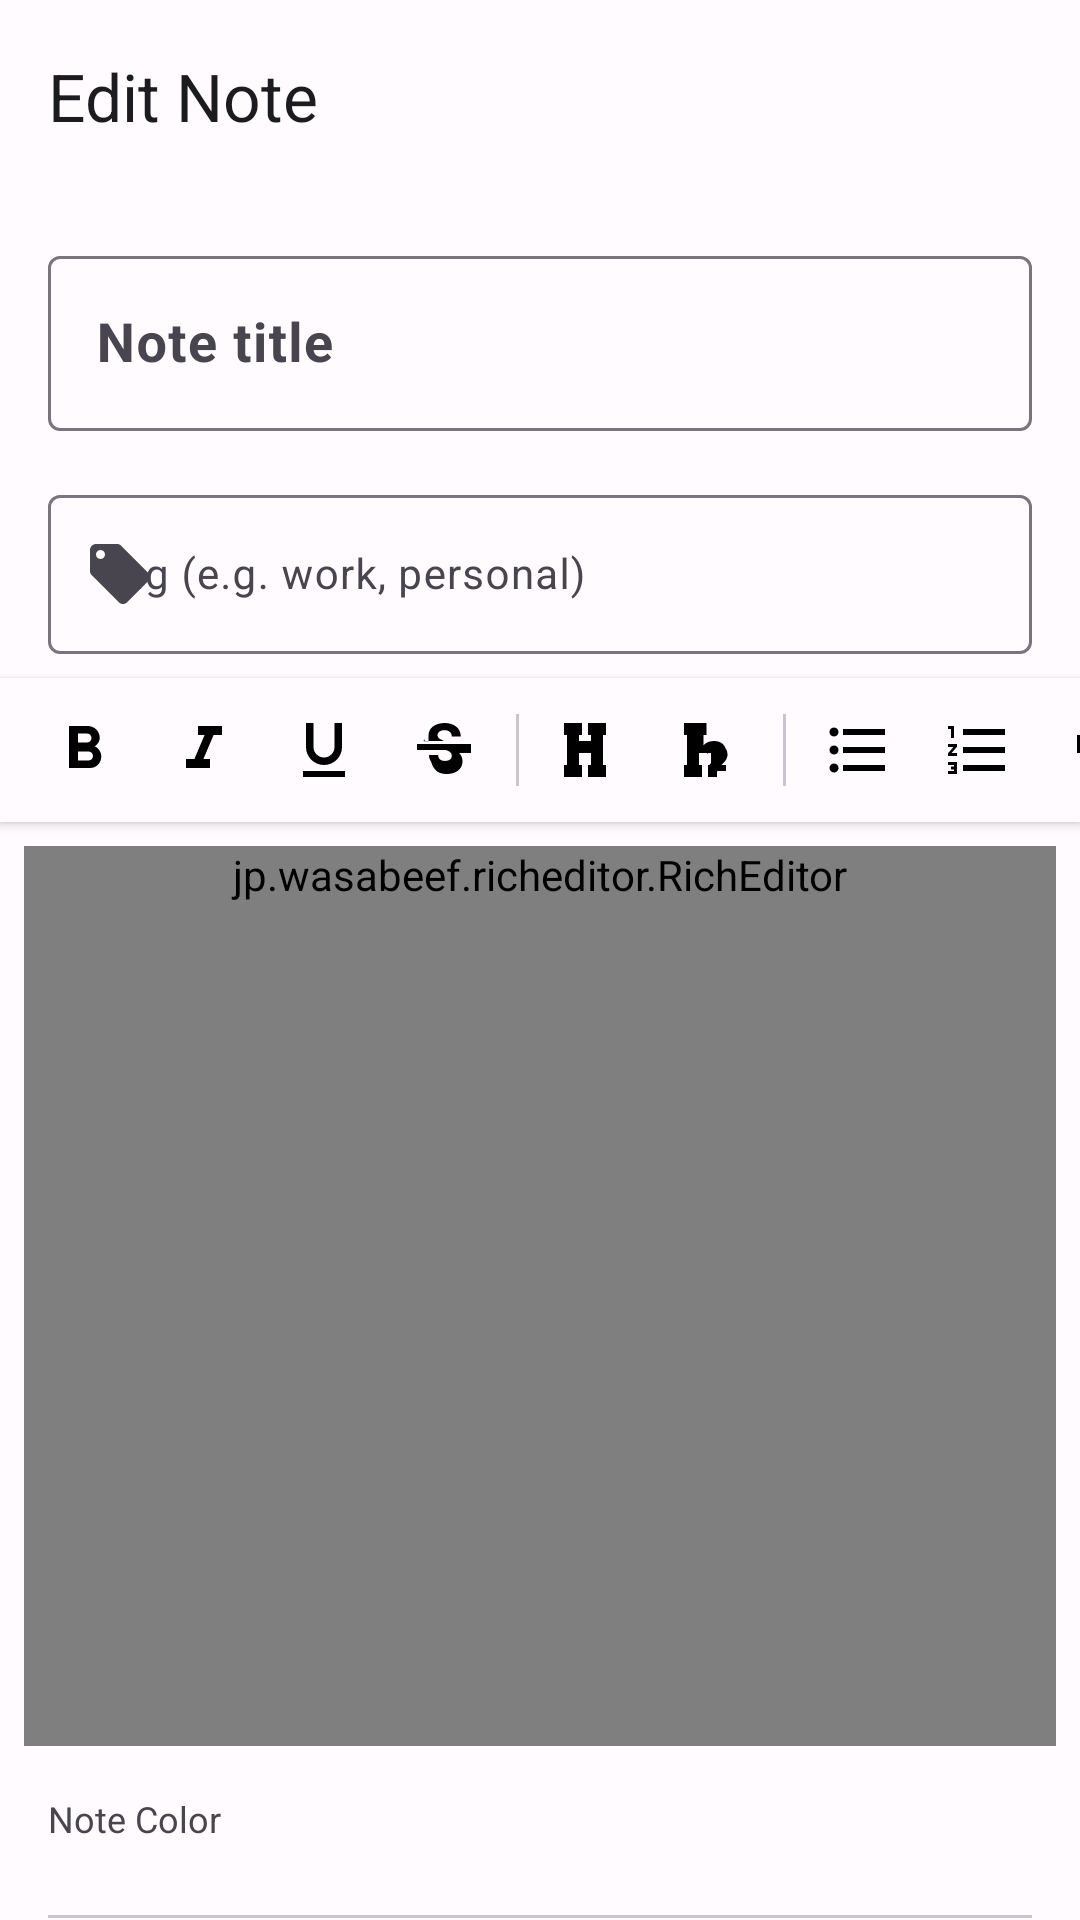

Where icons sit on this 1080px×1920px app screen, as box=[x1, y1, x2, y2]:
Bold: box=[69, 726, 102, 768]
Bullet list: box=[829, 727, 885, 773]
Heading 1: box=[564, 723, 606, 777]
Heading 2: box=[684, 723, 728, 777]
Italic: box=[186, 726, 222, 768]
Numbered list: box=[948, 726, 1005, 774]
Strikethrough: box=[417, 723, 471, 774]
Underline: box=[303, 723, 345, 777]
